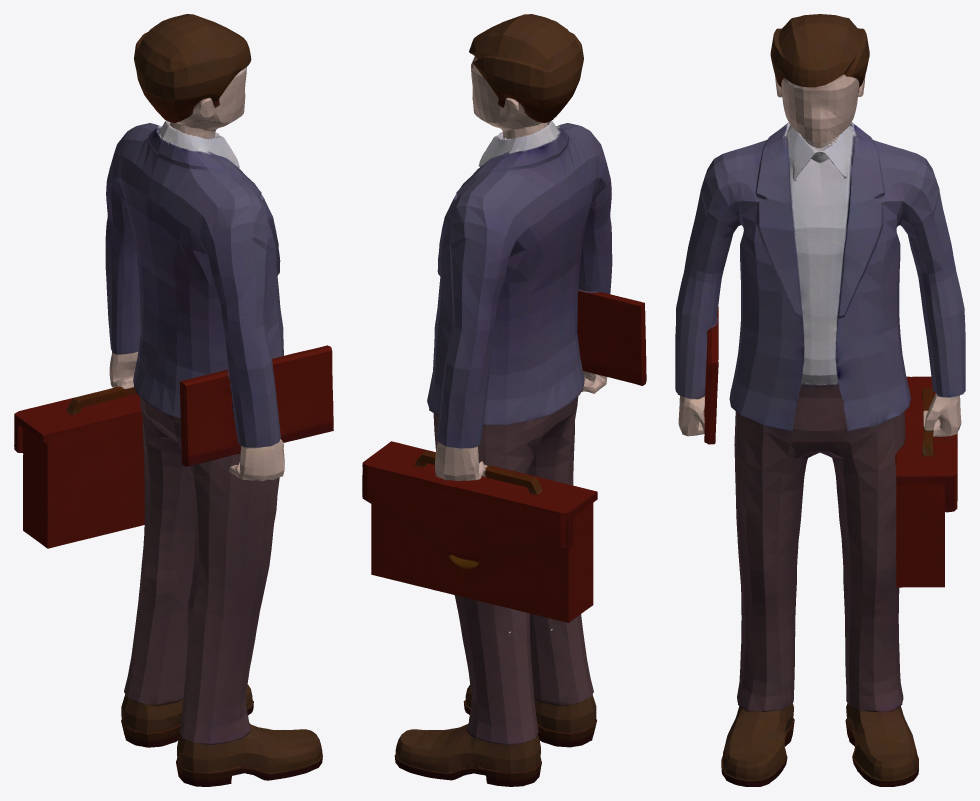
File: Principal-v1.glb
3 views of the same model, side by side, from view 1: azimuth 30°, elevation 25°; view 2: azimuth 150°, elevation 25°; view 3: azimuth 270°, elevation 25° (orthographic).
Parts seen in each view (by area): view 1: tripo_node_8c38521f-a9a1-4475-99a9-73ba62ed505f; view 2: tripo_node_8c38521f-a9a1-4475-99a9-73ba62ed505f; view 3: tripo_node_8c38521f-a9a1-4475-99a9-73ba62ed505f.
Boxes of the visible parts, <box> form: tripo_node_8c38521f-a9a1-4475-99a9-73ba62ed505f: <box>14,14,333,786</box>; tripo_node_8c38521f-a9a1-4475-99a9-73ba62ed505f: <box>362,14,646,786</box>; tripo_node_8c38521f-a9a1-4475-99a9-73ba62ed505f: <box>675,14,965,786</box>.
Size of the model in its own units: 0.5456 by 1.84 by 0.671.
1 material, 1 textured.
